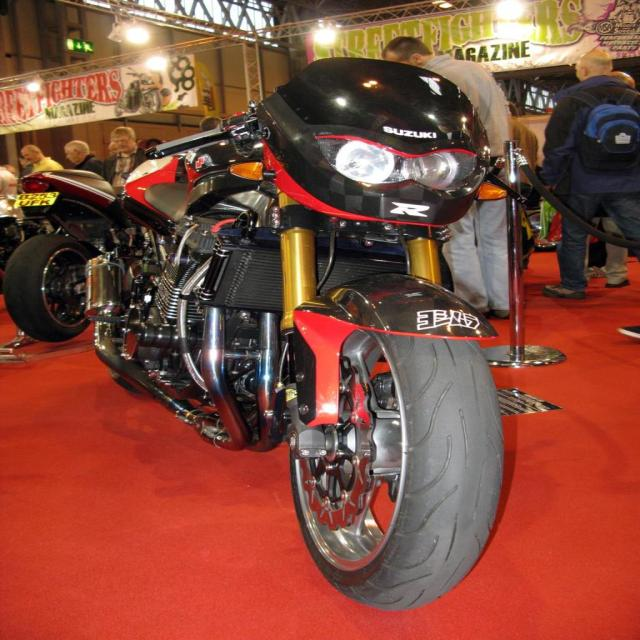Motorbikes: (78, 59, 510, 614)
